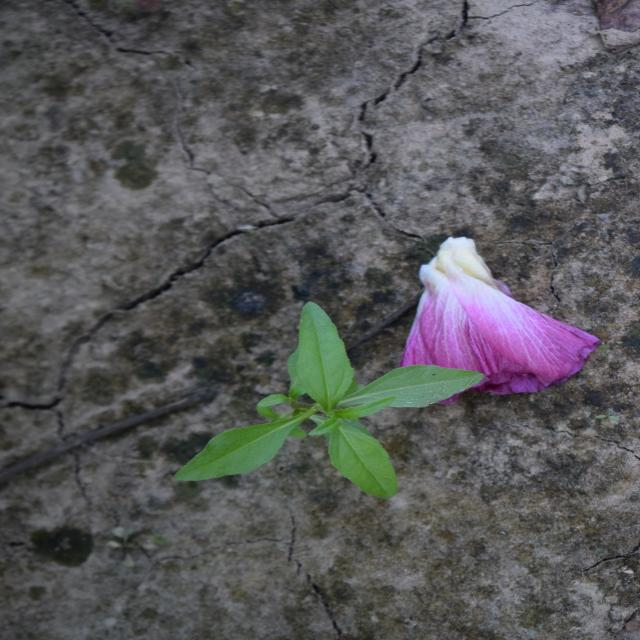Eclipta: (168, 300, 488, 500)
